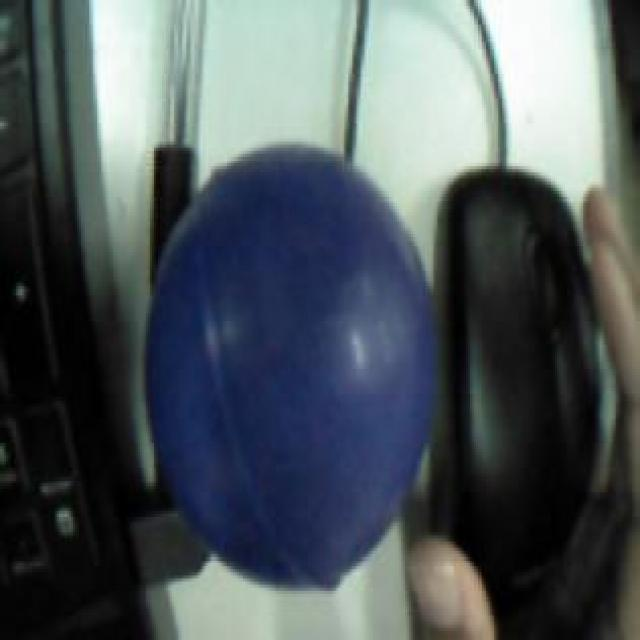BallPurple: (144, 146, 436, 593)
